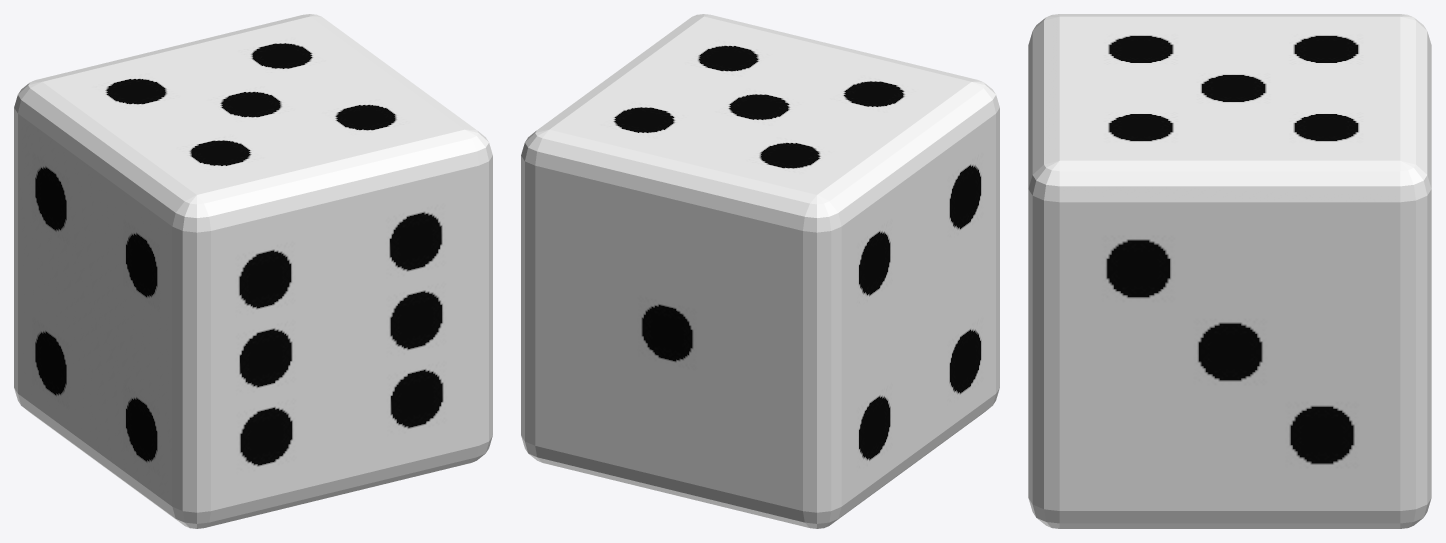
The model's file is Dice.fbx.
The picture shows the model from 3 angles, left to right: view 1: azimuth 30°, elevation 25°; view 2: azimuth 150°, elevation 25°; view 3: azimuth 270°, elevation 25°; orthographic projection. The views are drawn at different scales.
Visible parts, largest first — view 1: instance_0.001, instance_0, instance_0.005, instance_0.006; view 2: instance_0.003, instance_0.005, instance_0.006, instance_0, instance_0.004; view 3: instance_0.002, instance_0, instance_0.006, instance_0.004.
Boxes of the visible parts, left/top/right/bottom form: instance_0.001: left=211, top=166, right=478, bottom=510; instance_0: left=14, top=14, right=492, bottom=528; instance_0.005: left=18, top=114, right=172, bottom=506; instance_0.006: left=42, top=16, right=463, bottom=194; instance_0.003: left=535, top=166, right=802, bottom=510; instance_0.005: left=841, top=114, right=995, bottom=506; instance_0.006: left=550, top=16, right=971, bottom=194; instance_0: left=521, top=14, right=999, bottom=528; instance_0.004: left=535, top=151, right=816, bottom=512; instance_0.002: left=1059, top=202, right=1400, bottom=510; instance_0: left=1028, top=14, right=1431, bottom=528; instance_0.006: left=1059, top=16, right=1400, bottom=160; instance_0.004: left=1427, top=31, right=1431, bottom=188.
Bounding box in the file's own units: 200 × 200 × 200.
